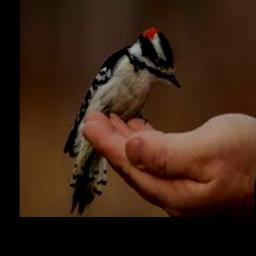Woodpecker: (64, 26, 181, 216)
